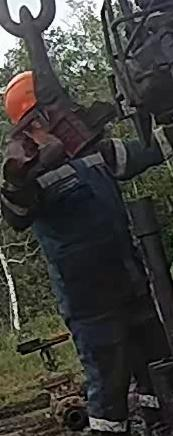helmet: (3, 70, 37, 125)
vest: (0, 138, 152, 310)
